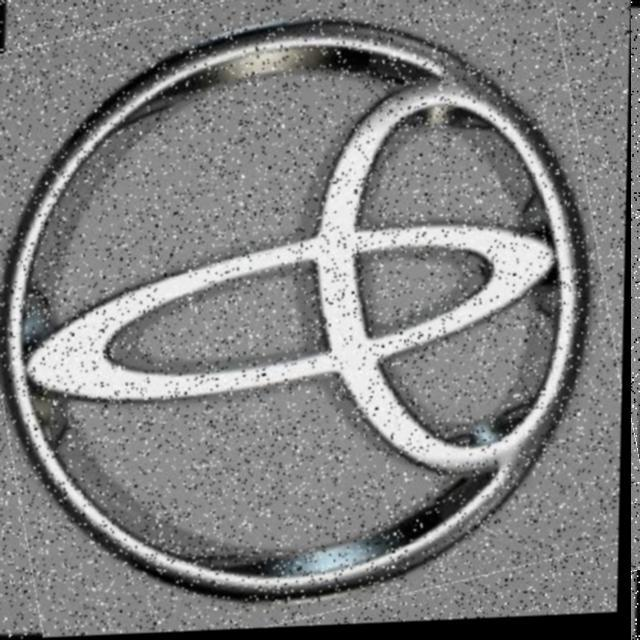Toyota: (0, 0, 631, 640)
